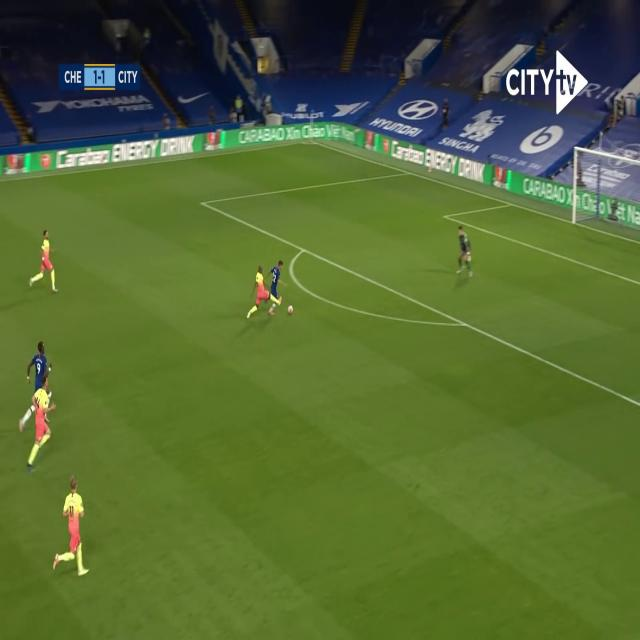Ball: (288, 306, 294, 313)
GoalKeeper: (454, 224, 474, 278)
TEAM 1: (54, 479, 87, 576), (22, 384, 56, 473), (28, 228, 59, 292), (245, 264, 276, 319)
TEAM 2: (27, 342, 52, 390), (268, 264, 281, 302)
